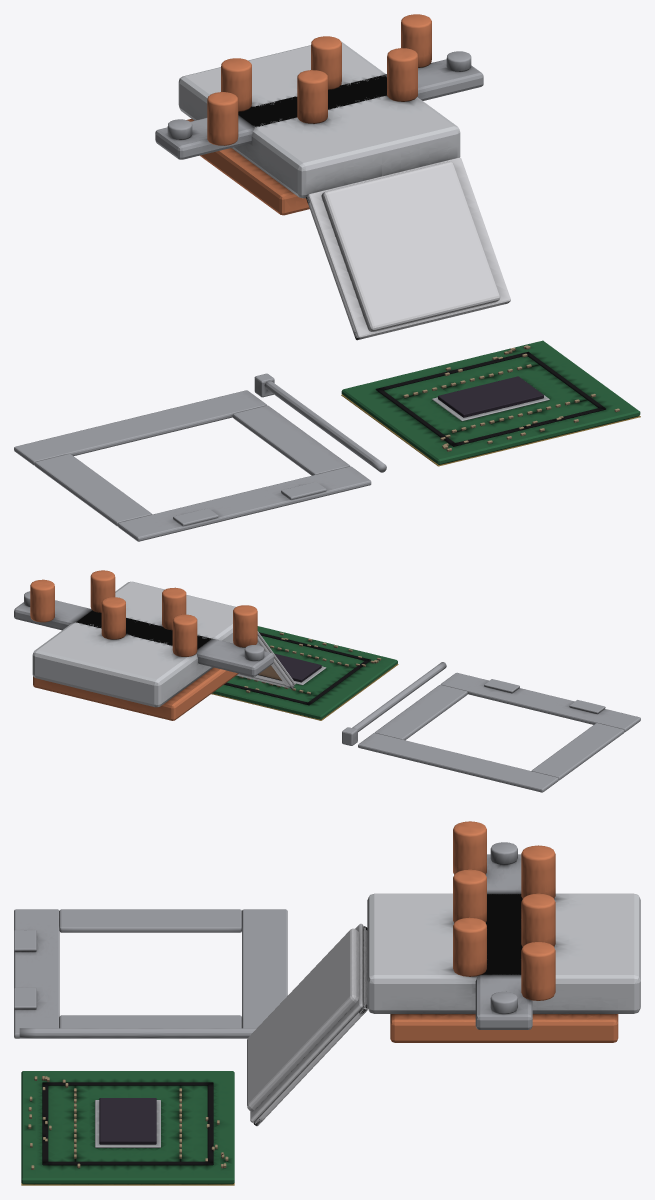
Rendered from cpu_open.glb.
3 views of the same model, one above another, from view 1: azimuth 30°, elevation 25°; view 2: azimuth 150°, elevation 25°; view 3: azimuth 270°, elevation 25° (orthographic). The views are drawn at different scales.
Parts seen in each view (by area): view 1: X_L_cooler, X_L_ihs, X_cpu_open, X_L_ilm; view 2: X_L_cooler, X_L_ilm, X_cpu_open, X_L_ihs; view 3: X_L_cooler, X_cpu_open, X_L_ilm, X_L_ihs.
Part boxes in pixels (x1,y1,x2,y2): X_L_cooler: [155, 14, 483, 215]; X_L_ihs: [306, 157, 510, 340]; X_cpu_open: [341, 340, 640, 466]; X_L_ilm: [14, 373, 386, 541]; X_L_cooler: [14, 570, 273, 720]; X_L_ilm: [342, 662, 640, 792]; X_cpu_open: [211, 626, 398, 720]; X_L_ihs: [236, 631, 295, 688]; X_L_cooler: [367, 821, 640, 1042]; X_cpu_open: [21, 1071, 234, 1185]; X_L_ilm: [14, 909, 287, 1038]; X_L_ihs: [247, 923, 367, 1125].
Bounding box in the file's own units: 0.124 × 0.0471 × 0.11.
